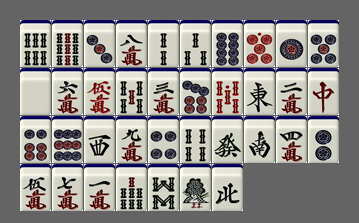0m: (84, 68, 115, 115)
0p: (244, 20, 275, 67)
0s: (212, 68, 243, 115)
1m: (84, 164, 115, 211)
1p: (276, 20, 307, 67)
1s: (180, 164, 211, 211)
1z: (244, 68, 275, 115)
2m: (276, 68, 307, 115)
2p: (308, 116, 339, 163)
2s: (148, 20, 179, 67)
2z: (244, 116, 275, 163)
3m: (148, 68, 179, 115)
3p: (84, 20, 115, 67)
3s: (180, 20, 211, 67)
3z: (84, 116, 115, 163)
4m: (276, 116, 307, 163)
4p: (148, 116, 179, 163)
4s: (180, 116, 211, 163)
4z: (212, 164, 243, 211)
5m: (20, 164, 51, 211)
5p: (308, 20, 339, 67)
5s: (116, 68, 147, 115)
5z: (20, 68, 51, 115)
6m: (52, 68, 83, 115)
6p: (20, 116, 51, 163)
6s: (20, 20, 51, 67)
6z: (212, 116, 243, 163)
7m: (52, 164, 83, 211)
7p: (180, 68, 211, 115)
7s: (116, 164, 147, 211)
7z: (308, 68, 339, 115)
8m: (116, 20, 147, 67)
8p: (212, 20, 243, 67)
8s: (148, 164, 179, 211)
9m: (116, 116, 147, 163)
9p: (52, 116, 83, 163)
9s: (52, 20, 83, 67)
